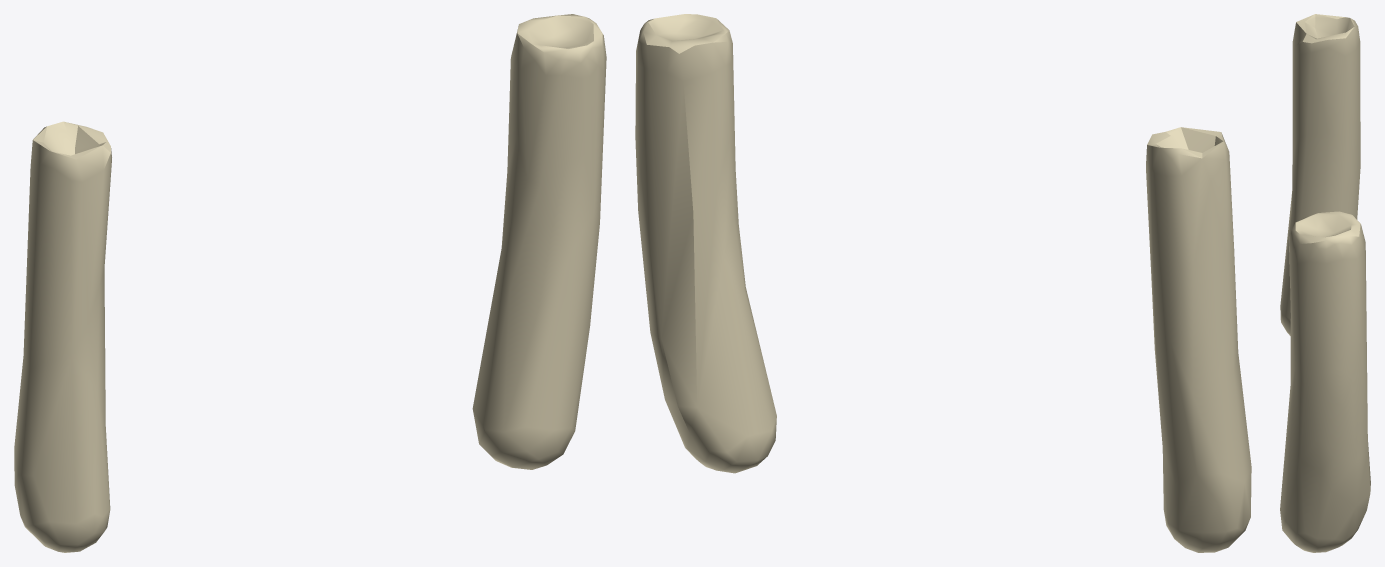
Rendered from bodyparts3d-venous-head-neck.glb.
3 views of the same model, side by side, from view 1: azimuth 30°, elevation 25°; view 2: azimuth 150°, elevation 25°; view 3: azimuth 270°, elevation 25° (orthographic). The views are drawn at different scales.
Visible parts, largest first — view 1: venous-internal-jugular-vein-left, venous-internal-jugular-vein-right; view 2: venous-internal-jugular-vein-left, venous-internal-jugular-vein-right; view 3: venous-internal-jugular-vein-left, venous-internal-jugular-vein-right.
Part boxes in pixels (box(x1,y1,x2,y2)): venous-internal-jugular-vein-left: box(472, 14, 606, 469); venous-internal-jugular-vein-right: box(14, 121, 111, 552); venous-internal-jugular-vein-left: box(635, 14, 776, 473); venous-internal-jugular-vein-right: box(1146, 127, 1251, 552); venous-internal-jugular-vein-left: box(1280, 211, 1370, 552); venous-internal-jugular-vein-right: box(1280, 14, 1360, 335).
Bounding box in the file's own units: 0.062 × 0.0443 × 0.0104.
